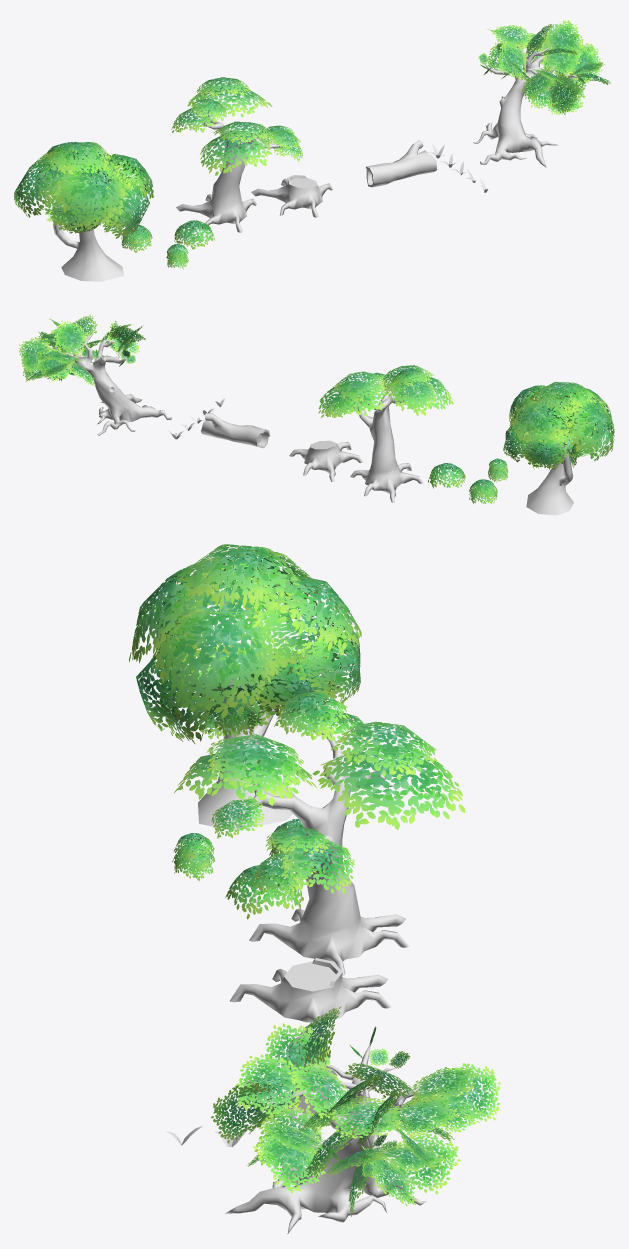
The model's file is trees.fbx.
3 renders of one model, top to bottom at view 1: azimuth 30°, elevation 25°; view 2: azimuth 150°, elevation 25°; view 3: azimuth 270°, elevation 25°, orthographic. The views are drawn at different scales.
Parts seen in each view (by area): view 1: BOSQUELOWPOLY.005, galhogrande.005, tree:tree.001, Cylinder.001, tree:tree, BOSQUELOWPOLY.001, trunk:trunk, stump:stump, BOSQUELOWPOLY.004, BOSQUELOWPOLY.003, BOSQUELOWPOLY.002; view 2: BOSQUELOWPOLY.005, galhogrande.005, tree:tree.001, tree:tree, Cylinder.001, BOSQUELOWPOLY.001, stump:stump, trunk:trunk, BOSQUELOWPOLY.004, BOSQUELOWPOLY.003, BOSQUELOWPOLY.002; view 3: BOSQUELOWPOLY.005, galhogrande.005, tree:tree.001, tree:tree, Cylinder.001, stump:stump, BOSQUELOWPOLY.001, BOSQUELOWPOLY.004, BOSQUELOWPOLY.002.
Part boxes in pixels (x1=…): BOSQUELOWPOLY.005: x1=14, y1=141, x2=153, y2=239; galhogrande.005: x1=478, y1=20, x2=610, y2=114; tree:tree.001: x1=171, y1=77, x2=302, y2=175; Cylinder.001: x1=473, y1=44, x2=579, y2=167; tree:tree: x1=176, y1=106, x2=286, y2=232; BOSQUELOWPOLY.001: x1=53, y1=201, x2=123, y2=281; trunk:trunk: x1=366, y1=140, x2=437, y2=187; stump:stump: x1=251, y1=175, x2=332, y2=217; BOSQUELOWPOLY.004: x1=174, y1=220, x2=214, y2=249; BOSQUELOWPOLY.003: x1=121, y1=224, x2=152, y2=252; BOSQUELOWPOLY.002: x1=166, y1=244, x2=188, y2=269; BOSQUELOWPOLY.005: x1=503, y1=382, x2=614, y2=469; galhogrande.005: x1=19, y1=314, x2=145, y2=385; tree:tree.001: x1=318, y1=365, x2=454, y2=417; tree:tree: x1=347, y1=380, x2=423, y2=502; Cylinder.001: x1=56, y1=334, x2=172, y2=435; BOSQUELOWPOLY.001: x1=526, y1=442, x2=573, y2=515; stump:stump: x1=289, y1=440, x2=362, y2=481; trunk:trunk: x1=200, y1=413, x2=270, y2=448; BOSQUELOWPOLY.004: x1=428, y1=463, x2=465, y2=488; BOSQUELOWPOLY.003: x1=469, y1=479, x2=497, y2=503; BOSQUELOWPOLY.002: x1=488, y1=458, x2=507, y2=482; BOSQUELOWPOLY.005: x1=129, y1=544, x2=361, y2=744; galhogrande.005: x1=211, y1=1006, x2=500, y2=1216; tree:tree.001: x1=174, y1=691, x2=465, y2=896; tree:tree: x1=235, y1=729, x2=409, y2=975; Cylinder.001: x1=225, y1=1043, x2=430, y2=1233; stump:stump: x1=229, y1=958, x2=391, y2=1034; BOSQUELOWPOLY.001: x1=198, y1=654, x2=295, y2=830; BOSQUELOWPOLY.004: x1=225, y1=864, x2=303, y2=919; BOSQUELOWPOLY.002: x1=172, y1=833, x2=214, y2=881.
Bounding box in the file's own units: 31.81 × 6.56 × 9.3.
